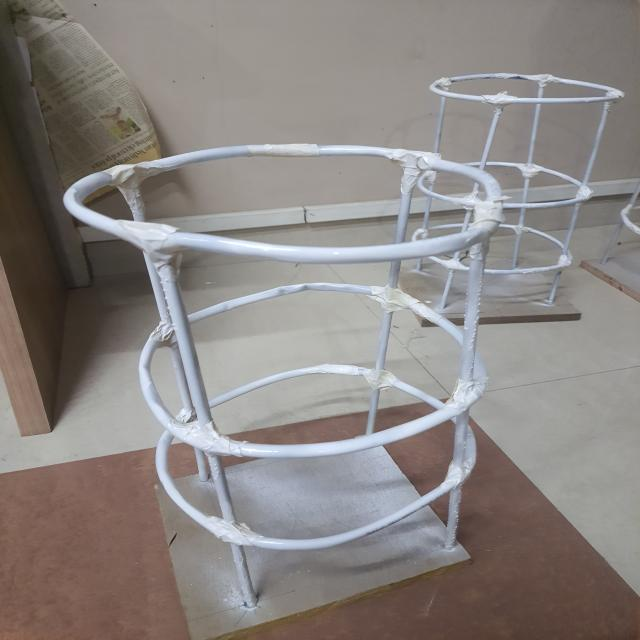silo: (72, 142, 471, 612), (396, 70, 578, 332)
